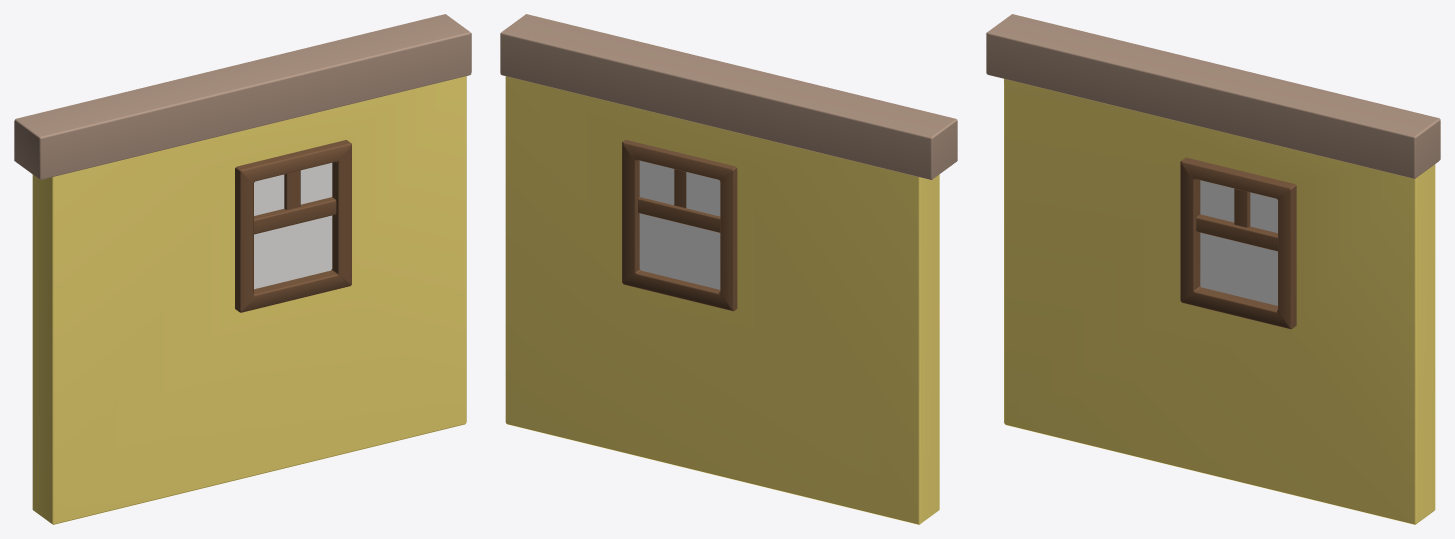
The model's file is Wall_36.glb.
The picture shows the model from 3 angles, left to right: view 1: azimuth 30°, elevation 25°; view 2: azimuth 150°, elevation 25°; view 3: azimuth 330°, elevation 25°; orthographic projection.
Visible parts, largest first — view 1: Wall_36; view 2: Wall_36; view 3: Wall_36.
Part boxes in pixels (<box>): Wall_36: <box>14,14,471,524</box>; Wall_36: <box>500,14,957,524</box>; Wall_36: <box>986,14,1440,524</box>.
Bounding box in the file's own units: 4.79 × 4.17 × 0.5595.
2 materials, 2 textured.
